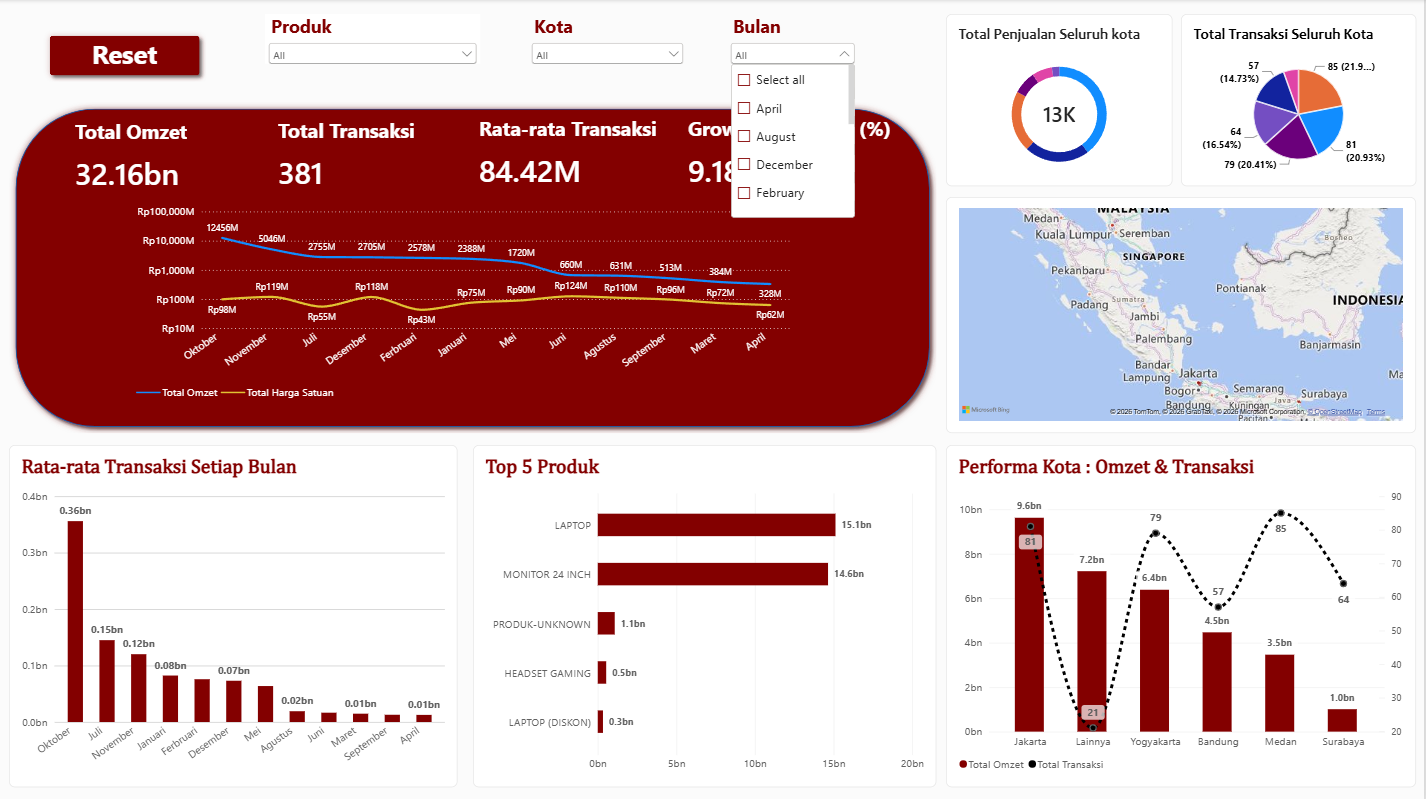

Layout of this report page (visuals, bound fields, positions):
{"tool":"powerbi","page":{"name":"Duplicate of Duplicate of Page 1","canvas":[1920,1080],"ordinal":0},"visuals":[{"type":"shape","box":[14.6,138.6,1248.9,446.4],"z":0},{"type":"cardVisual","fields":{"Data":["public produksi.Total Omzet"]},"box":[87.5,135.7,300,150],"z":1000},{"type":"lineChart","fields":{"Category":["public produksi.Bulan"],"Y":["public produksi.Total Omzet","public produksi.Total Harga Satuan"]},"box":[170.7,261.2,911.9,299.1],"z":2000},{"type":"slicer","fields":{"Values":["public produksi.Produk"]},"box":[358.9,20.4,290.3,67.1],"z":3000},{"type":"slicer","fields":{"Values":["calendar.Month name"]},"box":[981.9,20.4,176.5,67.1],"z":4000},{"type":"cardVisual","fields":{"Data":["public produksi.Total Transaksi"]},"box":[360.4,134.2,300,150],"z":5000},{"type":"filledMap","fields":{"Category":["public produksi.Kota_Toko"]},"box":[1276.6,267,633.2,318.1],"z":6000},{"type":"slicer","fields":{"Values":["public produksi.Kota_Toko"]},"box":[713.4,20.4,214.5,67.1],"z":7000},{"type":"clusteredColumnChart","title":"Rata-rata Transaksi Setiap Bulan","fields":{"Category":["public produksi.Bulan"],"Y":["public produksi.Rata-rata Transaksi"]},"box":[14.6,601.1,604,461],"z":8000},{"type":"cardVisual","fields":{"Data":["public produksi.Rata-rata Transaksi"]},"box":[631.7,131.3,300,150],"z":9000},{"type":"cardVisual","fields":{"Data":["public produksi.Growth Penjualan (%)"]},"box":[913.3,131.3,319.5,150.3],"z":10000},{"type":"donutChart","fields":{"Category":["public produksi.Kota_Toko"],"Y":["public produksi.Total Quantity"]},"box":[1276.6,20.4,304.9,232],"z":11000},{"type":"clusteredBarChart","title":"Top 5 Produk","fields":{"Category":["public produksi.Produk"],"Y":["public produksi.Total Omzet"]},"box":[639,601.1,624.4,461],"z":12000},{"type":"lineClusteredColumnComboChart","title":"Performa Kota : Omzet & Transaksi","fields":{"Category":["public produksi.Kota_Toko"],"Y":["public produksi.Total Omzet"],"Y2":["public produksi.Total Transaksi"]},"box":[1276.6,601.1,633,461],"z":13000},{"type":"pieChart","title":"Total Transaksi Seluruh Kota","fields":{"Category":["public produksi.Kota_Toko"],"Y":["public produksi.Total Transaksi"]},"box":[1593.2,20.4,316.6,232],"z":14000},{"type":"actionButton","box":[60,40,220,71.4],"z":15000}]}

Visuals, with their boxes in screenshot pixels (x1, y1, x2, y2), scaled from the page's 1920x1080 canvas onto the 1426x799 screenshot:
shape: {"left": 11, "top": 103, "right": 938, "bottom": 433}
cardVisual - public produksi.Total Omzet: {"left": 65, "top": 100, "right": 288, "bottom": 211}
lineChart - public produksi.Bulan x public produksi.Total Omzet: {"left": 127, "top": 193, "right": 804, "bottom": 415}
slicer - public produksi.Produk: {"left": 267, "top": 15, "right": 482, "bottom": 65}
slicer - calendar.Month name: {"left": 729, "top": 15, "right": 860, "bottom": 65}
cardVisual - public produksi.Total Transaksi: {"left": 268, "top": 99, "right": 490, "bottom": 210}
filledMap - public produksi.Kota_Toko: {"left": 948, "top": 198, "right": 1418, "bottom": 433}
slicer - public produksi.Kota_Toko: {"left": 530, "top": 15, "right": 689, "bottom": 65}
"Rata-rata Transaksi Setiap Bulan" clusteredColumnChart: {"left": 11, "top": 445, "right": 459, "bottom": 786}
cardVisual - public produksi.Rata-rata Transaksi: {"left": 469, "top": 97, "right": 692, "bottom": 208}
cardVisual - public produksi.Growth Penjualan (%): {"left": 678, "top": 97, "right": 916, "bottom": 208}
donutChart - public produksi.Kota_Toko x public produksi.Total Quantity: {"left": 948, "top": 15, "right": 1175, "bottom": 187}
"Top 5 Produk" clusteredBarChart: {"left": 475, "top": 445, "right": 938, "bottom": 786}
"Performa Kota : Omzet & Transaksi" lineClusteredColumnComboChart: {"left": 948, "top": 445, "right": 1418, "bottom": 786}
"Total Transaksi Seluruh Kota" pieChart: {"left": 1183, "top": 15, "right": 1418, "bottom": 187}
actionButton: {"left": 45, "top": 30, "right": 208, "bottom": 82}
